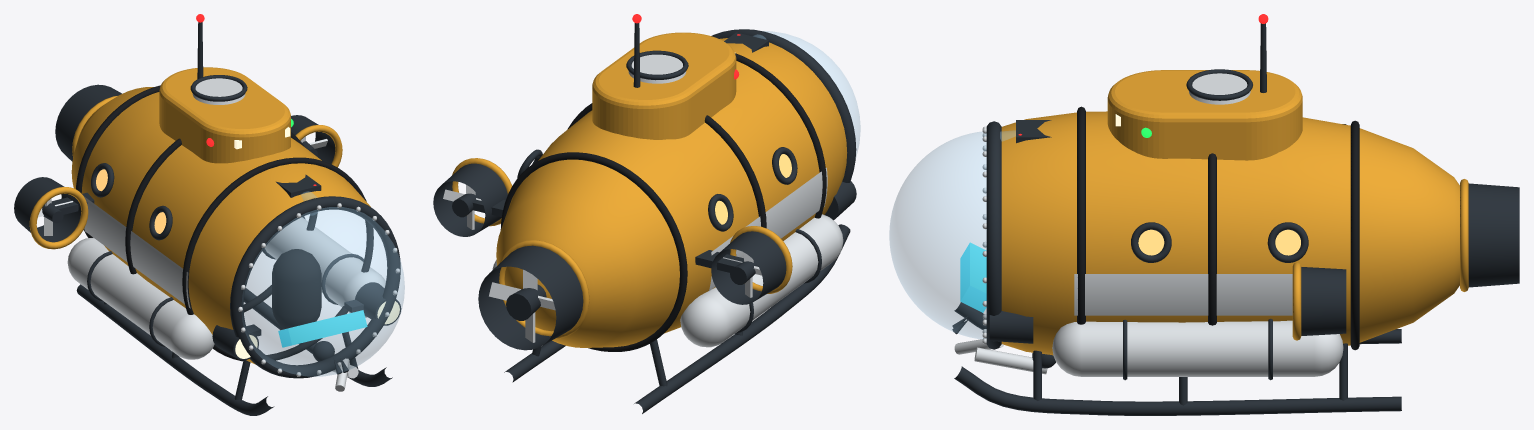
The model's file is submarine.glb.
The picture shows the model from 3 angles, left to right: view 1: azimuth 30°, elevation 25°; view 2: azimuth 150°, elevation 25°; view 3: azimuth 270°, elevation 25°; orthographic projection. The views are drawn at different scales.
Visible parts, largest first — view 1: hull, viewport, ballastTank (×2), sail, viewportRing, seam (×3), duct (×3), skid (×2), seat, flankStripe, ductLip (×3), console (+7 smaller); view 2: hull, duct (×3), sail, ballastTank, seam (×3), skid (×2), ductLip (×3), flankStripe, viewportRing, hub (×3), viewport, portholeRing (×2) (+7 smaller); view 3: hull, viewport, ballastTank, sail, flankStripe, duct (×2), skid (×2), seam (×3), viewportRing, ductLip (×2), portholeRing (×2), console (+5 smaller).
Part boxes in pixels (x1=…): hull: x1=71, y1=87, x2=370, y2=364; viewport: x1=242, y1=207, x2=404, y2=376; ballastTank (×2): x1=67, y1=217, x2=385, y2=359; sail: x1=159, y1=67, x2=290, y2=163; viewportRing: x1=230, y1=196, x2=400, y2=378; seam (×3): x1=76, y1=85, x2=373, y2=361; duct (×3): x1=14, y1=84, x2=335, y2=242; skid (×2): x1=76, y1=284, x2=392, y2=415; seat: x1=272, y1=249, x2=321, y2=328; flankStripe: x1=84, y1=196, x2=190, y2=308; ductLip (×3): x1=29, y1=96, x2=342, y2=249; console: x1=278, y1=310, x2=367, y2=347; hull: x1=496, y1=38, x2=847, y2=347; duct (×3): x1=433, y1=163, x2=786, y2=350; sail: x1=592, y1=32, x2=736, y2=139; ballastTank: x1=680, y1=214, x2=843, y2=347; seam (×3): x1=500, y1=53, x2=826, y2=351; skid (×2): x1=504, y1=224, x2=850, y2=413; ductLip (×3): x1=452, y1=158, x2=792, y2=338; flankStripe: x1=709, y1=167, x2=827, y2=290; viewportRing: x1=711, y1=29, x2=856, y2=182; hub (×3): x1=452, y1=192, x2=758, y2=320; viewport: x1=764, y1=31, x2=860, y2=156; portholeRing (×2): x1=708, y1=147, x2=797, y2=231; hull: x1=1001, y1=111, x2=1459, y2=355; viewport: x1=889, y1=132, x2=986, y2=339; ballastTank: x1=1052, y1=320, x2=1343, y2=376; sail: x1=1107, y1=70, x2=1302, y2=160; flankStripe: x1=1074, y1=274, x2=1292, y2=315; duct (×2): x1=1301, y1=183, x2=1519, y2=335; skid (×2): x1=954, y1=302, x2=1401, y2=415; seam (×3): x1=1077, y1=106, x2=1359, y2=350; viewportRing: x1=986, y1=121, x2=1001, y2=349; ductLip (×2): x1=1292, y1=179, x2=1468, y2=340; portholeRing (×2): x1=1131, y1=222, x2=1308, y2=262; console: x1=960, y1=242, x2=986, y2=312.
Size of the model in its own units: 2.9 by 2.78 by 4.33.
